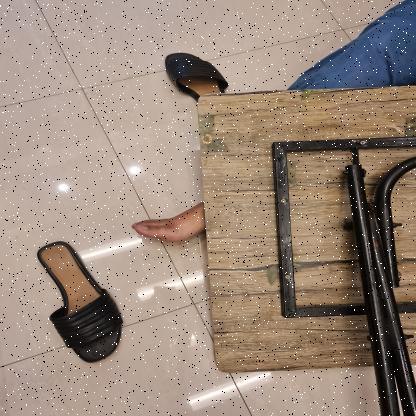leg: (127, 196, 209, 264)
